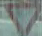Give way: (1, 1, 39, 35)
